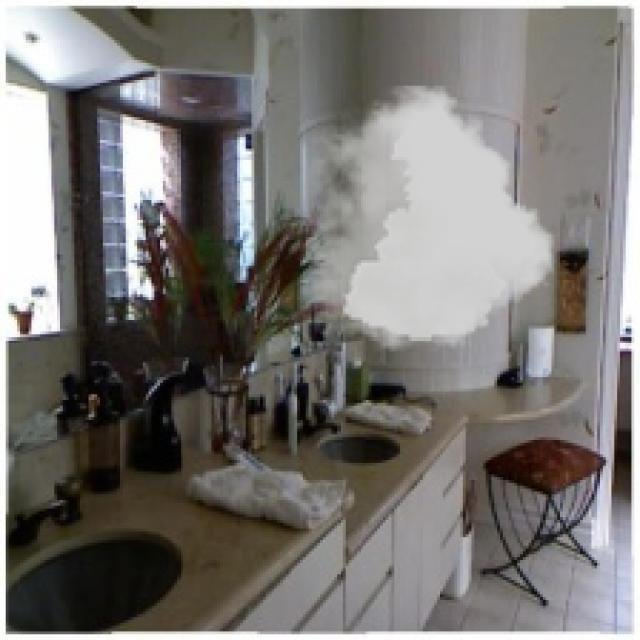Smoke: (306, 86, 554, 352)
